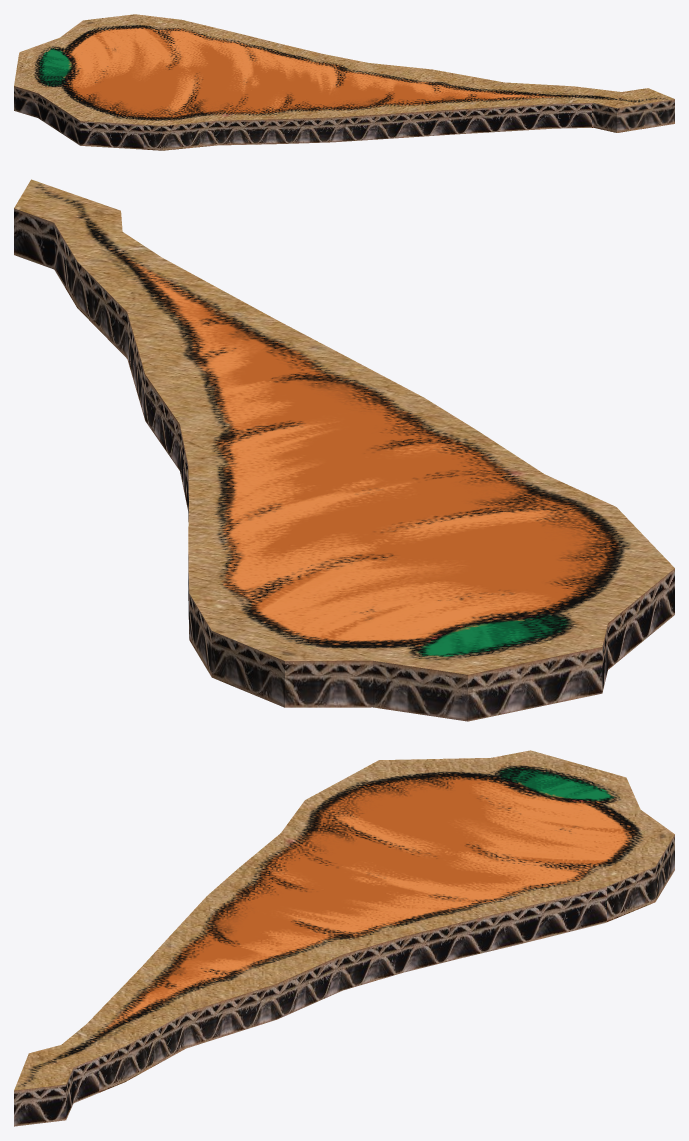
File: Carrot.fbx
3 renders of one model, top to bottom at view 1: azimuth 30°, elevation 25°; view 2: azimuth 150°, elevation 25°; view 3: azimuth 270°, elevation 25°, orthographic. The views are drawn at different scales.
Parts seen in each view (by area): view 1: Plane; view 2: Plane; view 3: Plane.
Part boxes in pixels (x1,y1,x2,y2): Plane: [14, 14, 674, 150]; Plane: [14, 179, 674, 721]; Plane: [14, 750, 674, 1126].
Bounding box in the file's own units: 134 × 6.59 × 110.
